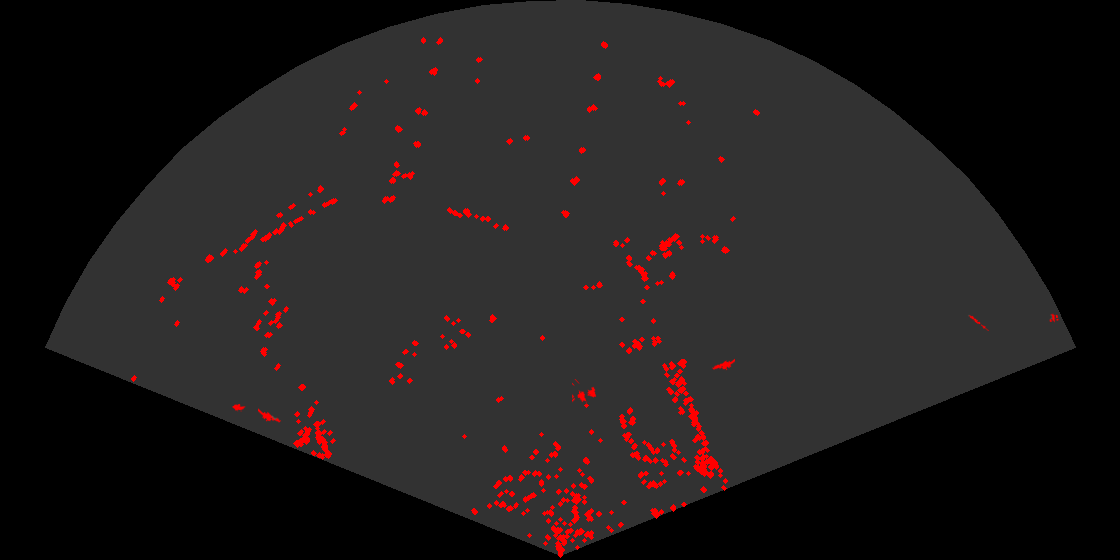AUV: (231, 402, 247, 412)
ball: (1048, 312, 1060, 324)
cage: (572, 379, 598, 405)
chain: (967, 314, 989, 331)
frogman: (258, 407, 282, 424), (711, 357, 735, 372)
